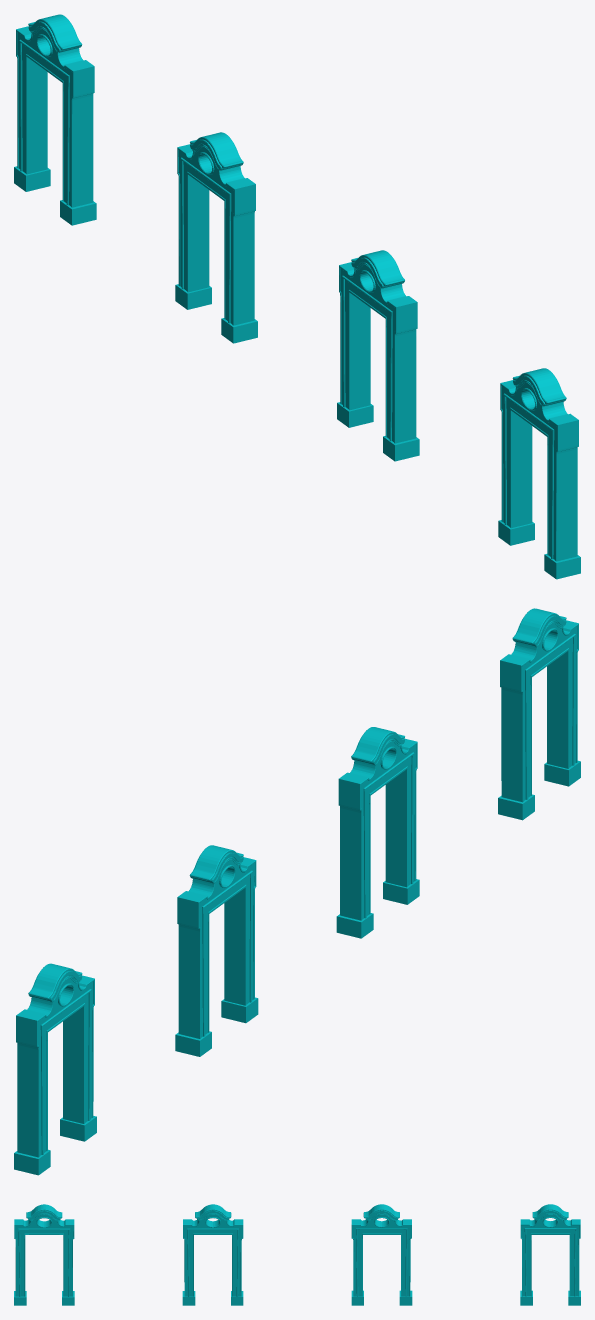
File: gate wall.fbx
3 renders of one model, top to bottom at view 1: azimuth 30°, elevation 25°; view 2: azimuth 150°, elevation 25°; view 3: azimuth 270°, elevation 25°, orthographic. The views are drawn at different scales.
Visible parts, largest first — view 1: door left inside; view 2: door left inside; view 3: door left inside.
Part boxes in pixels (x1,y1,x2,y2): door left inside: (14,14,580,579); door left inside: (14,608,580,1175); door left inside: (14,1204,580,1305).
Size of the model in its own units: 571 by 3931 by 21099.
